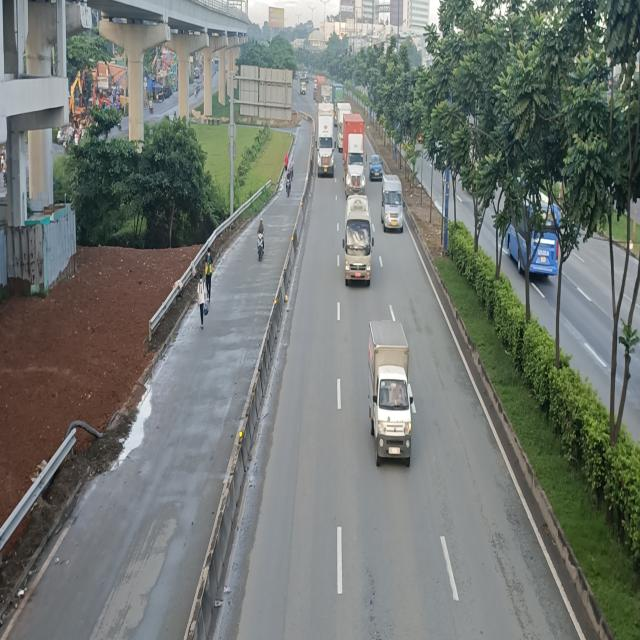coach: (344, 194, 374, 287)
container: (345, 113, 366, 192), (315, 103, 335, 178)
truck: (367, 317, 414, 467)
van: (381, 178, 404, 236)
